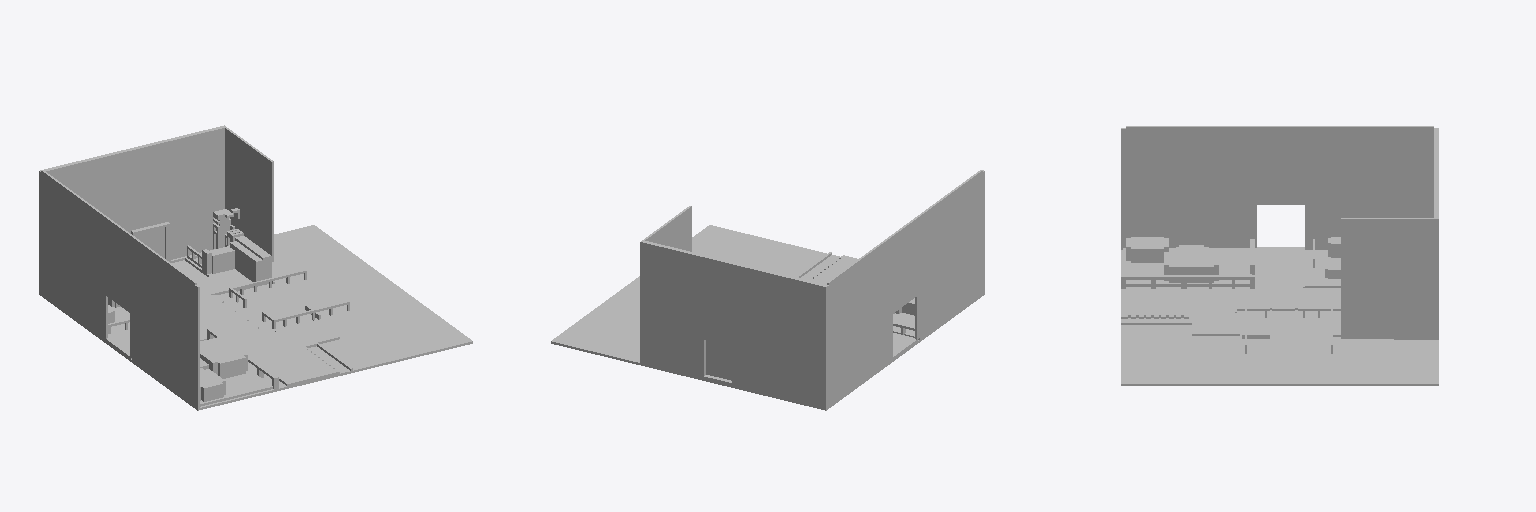
Rendered from Sci-Fi Level 4.obj.
3 views of the same model, side by side, from view 1: azimuth 30°, elevation 25°; view 2: azimuth 150°, elevation 25°; view 3: azimuth 270°, elevation 25° (orthographic).
Visible parts, largest first — view 1: object 1; view 2: object 1; view 3: object 1.
Part boxes in pixels (x1,y1,x2,y2): object 1: (39,125,472,410); object 1: (551,170,984,410); object 1: (1121,126,1438,385).
Size of the model in its own units: 12.6 by 5.5 by 12.6.